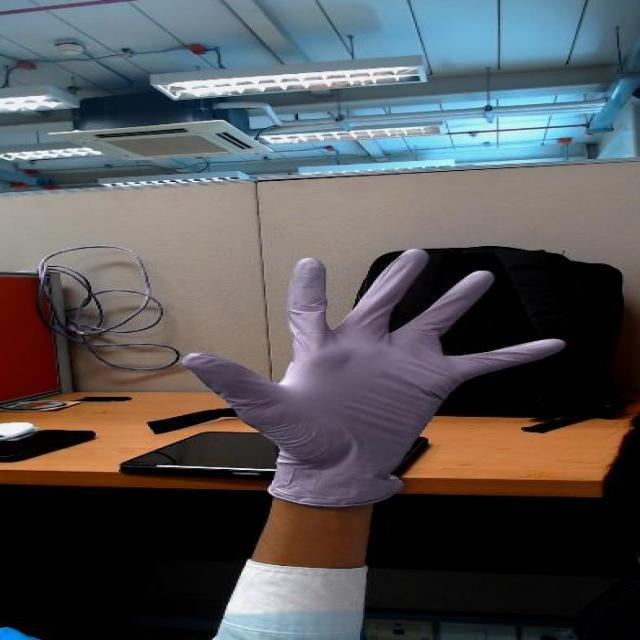with_gloves: (150, 227, 574, 431)
